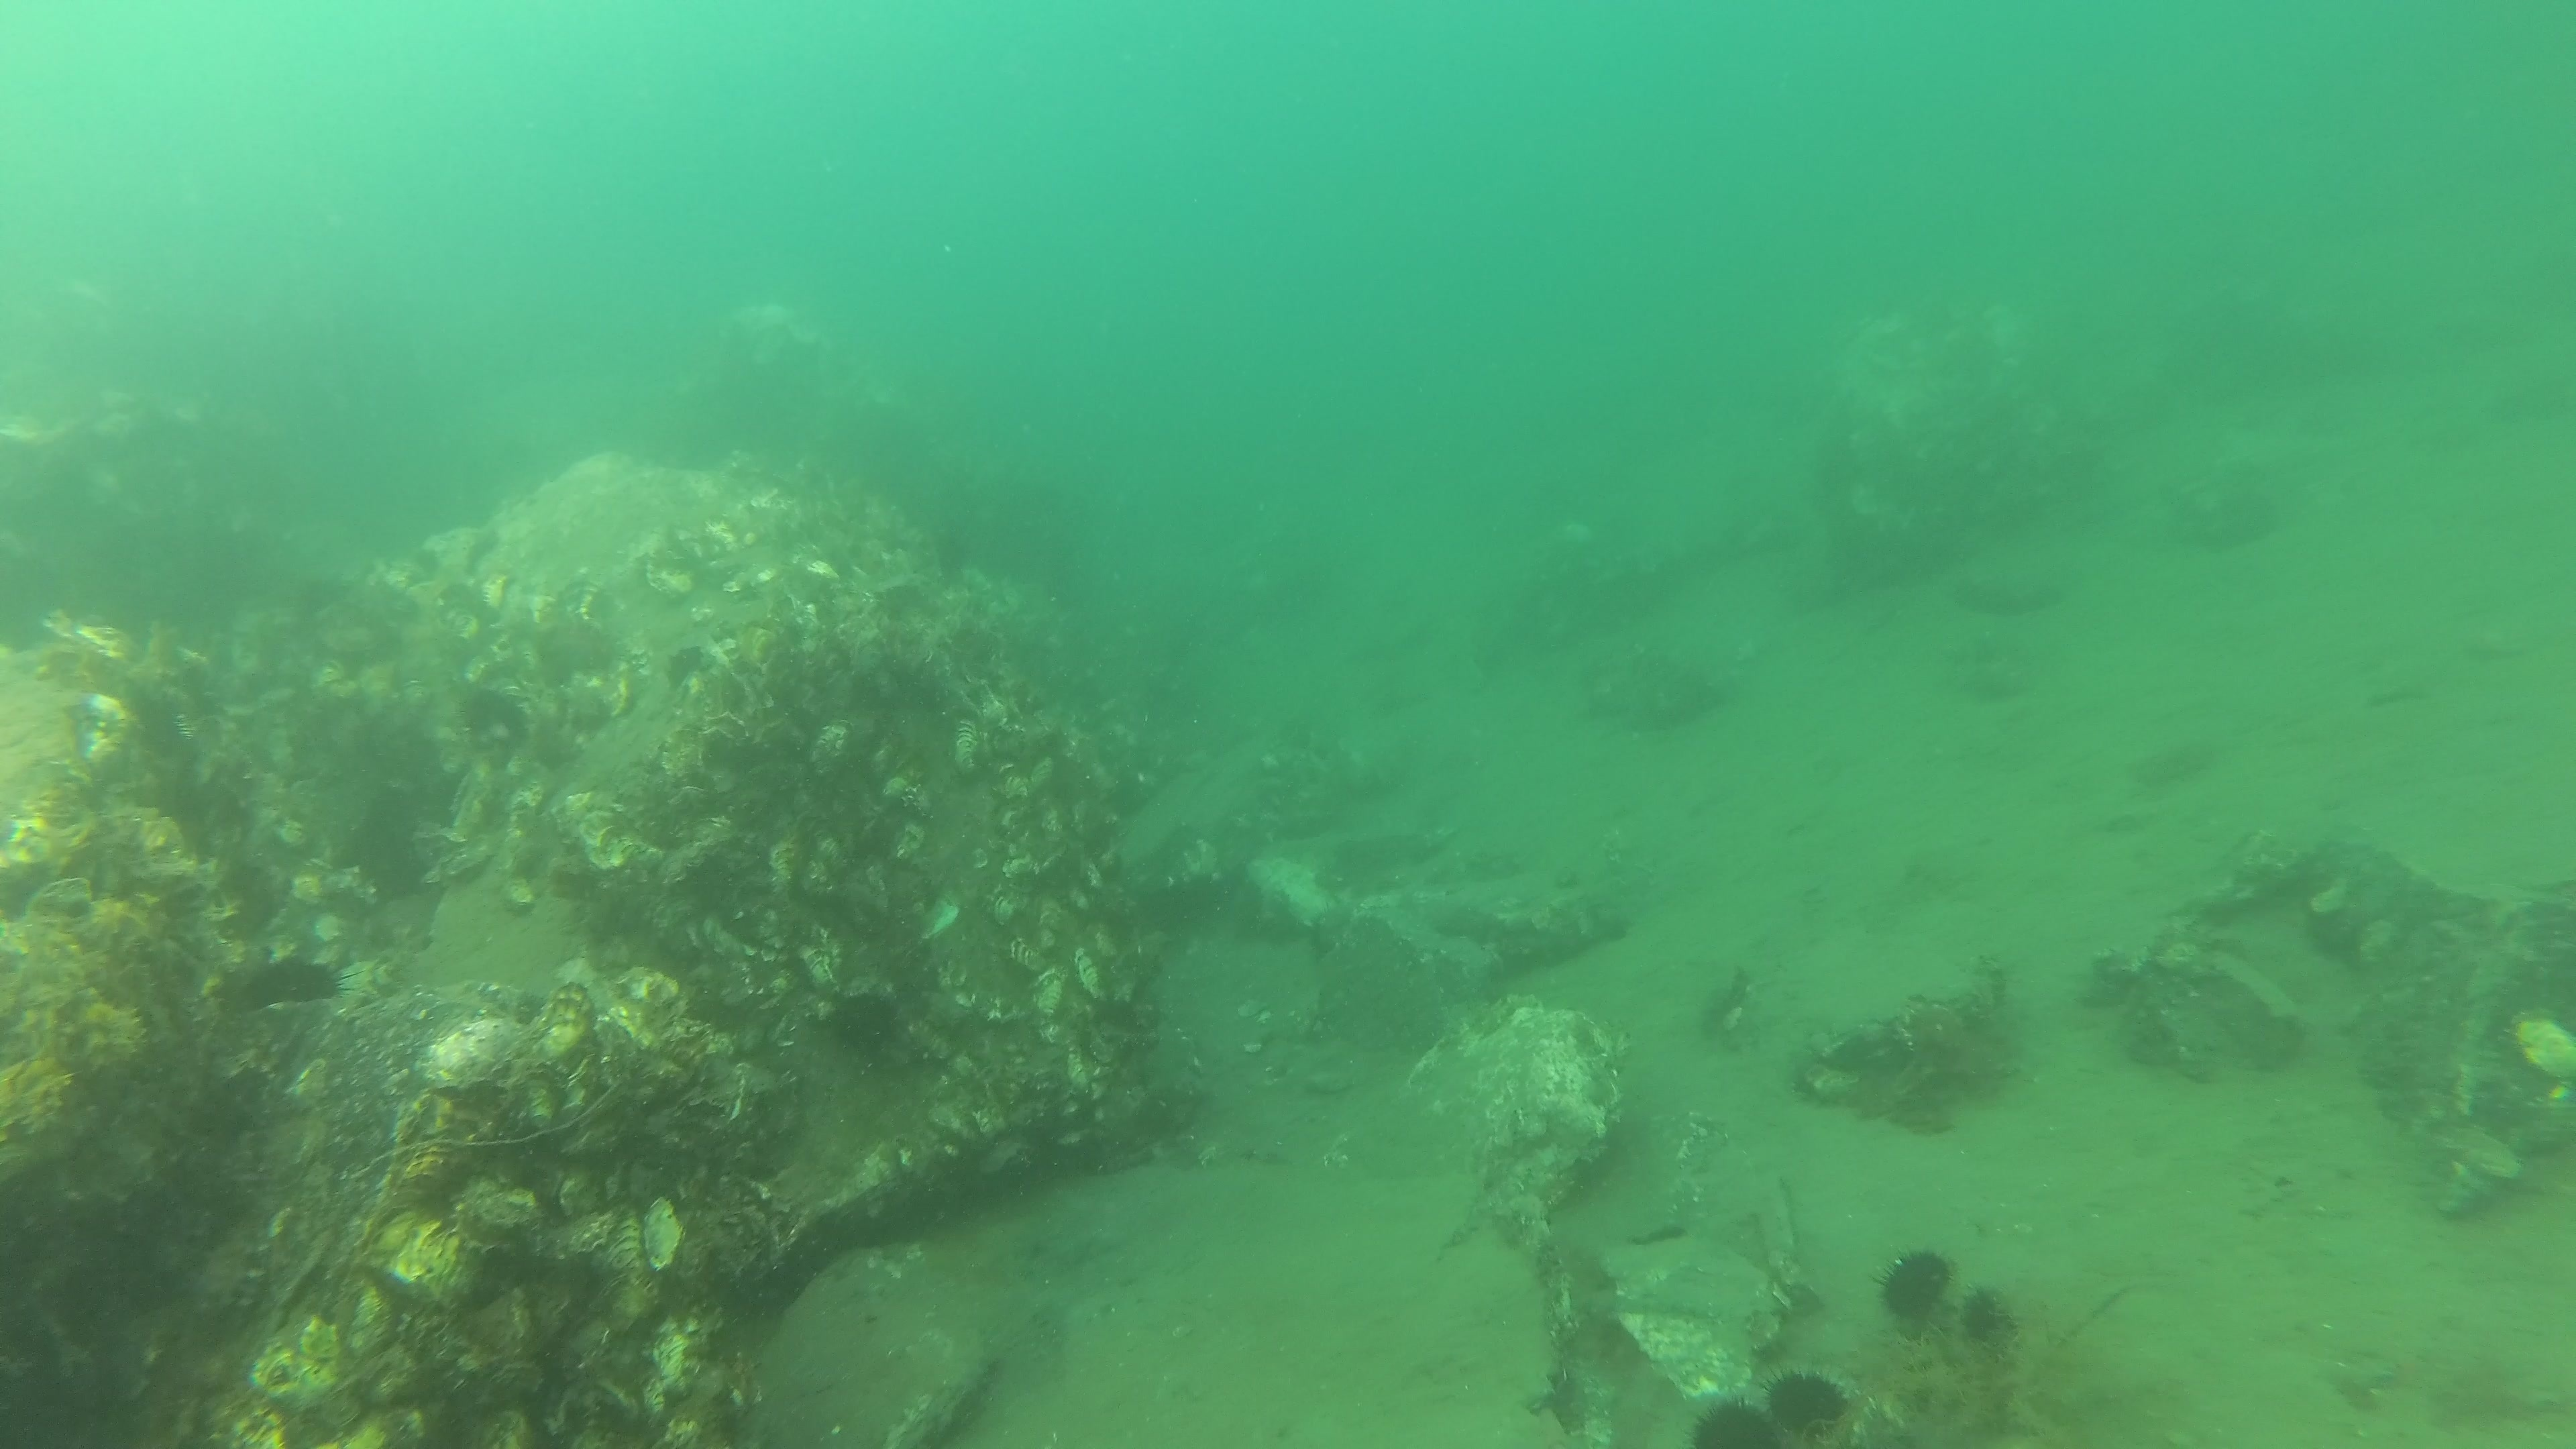echinus: (1875, 1249, 1955, 1323), (1762, 1371, 1845, 1435), (241, 961, 359, 1005), (830, 985, 899, 1060), (1695, 1396, 1775, 1449), (1967, 1297, 2005, 1339)
